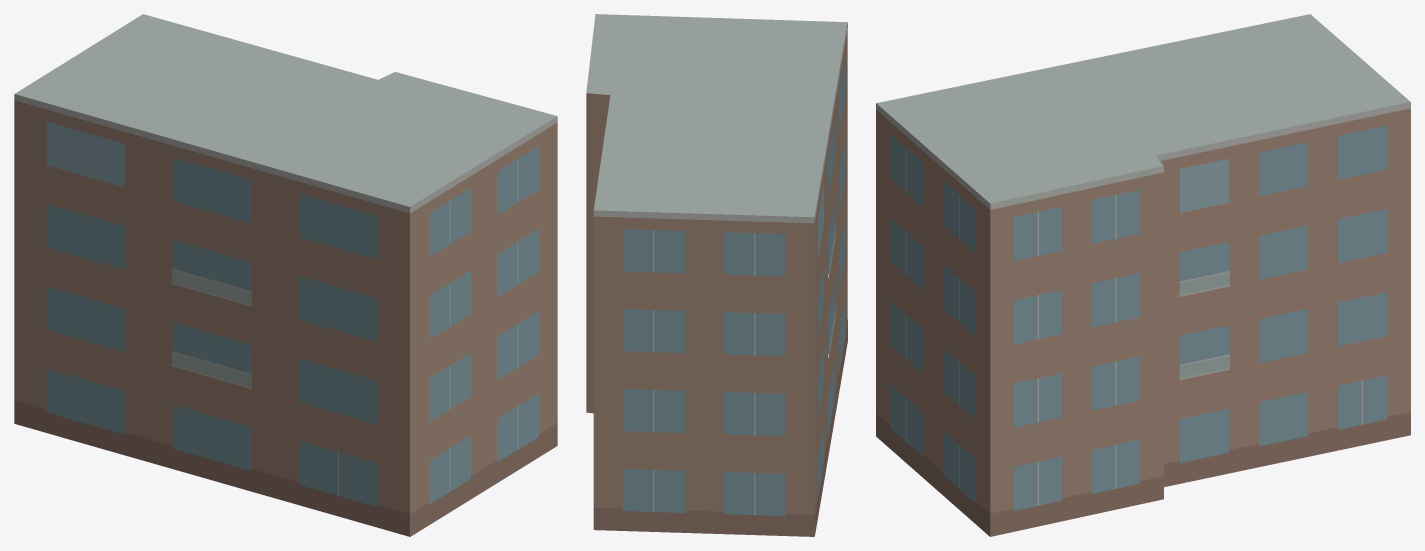
Rendered from survey-upis-33002496.glb.
3 views of the same model, side by side, from view 1: azimuth 30°, elevation 25°; view 2: azimuth 150°, elevation 25°; view 3: azimuth 270°, elevation 25° (orthographic). The views are drawn at different scales.
Parts seen in each view (by area): view 1: survey-upis-33002496.tmp; view 2: survey-upis-33002496.tmp; view 3: survey-upis-33002496.tmp.
Part boxes in pixels (x1,y1,x2,y2): survey-upis-33002496.tmp: (14, 14, 557, 536); survey-upis-33002496.tmp: (586, 14, 847, 536); survey-upis-33002496.tmp: (876, 14, 1410, 536).
Bounding box in the file's own units: 15.51 × 12.7 × 18.48.
